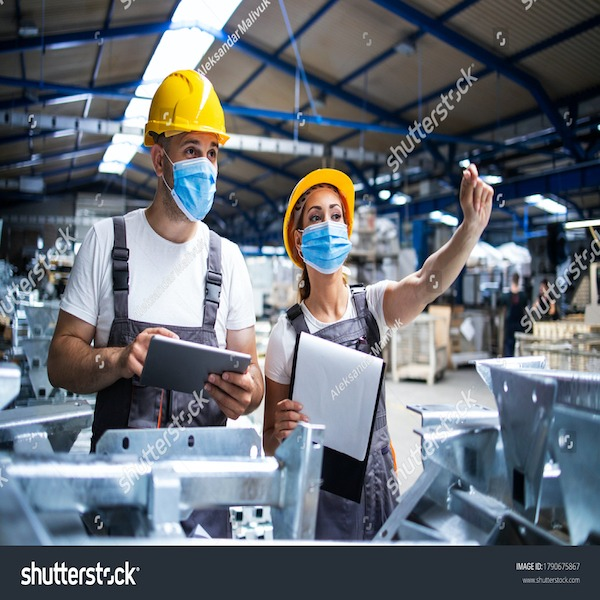helmet: (283, 177, 356, 250), (146, 74, 223, 137)
